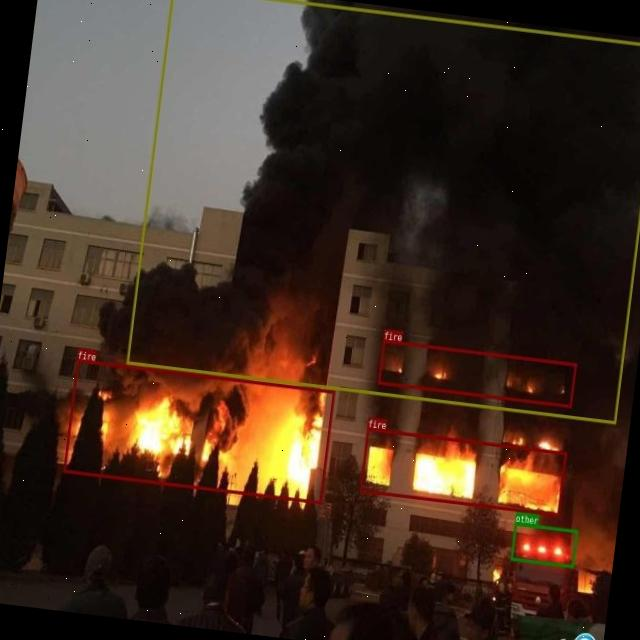fire: (62, 358, 334, 504), (358, 428, 566, 516), (378, 339, 576, 406)
smoke: (126, 0, 640, 422)
